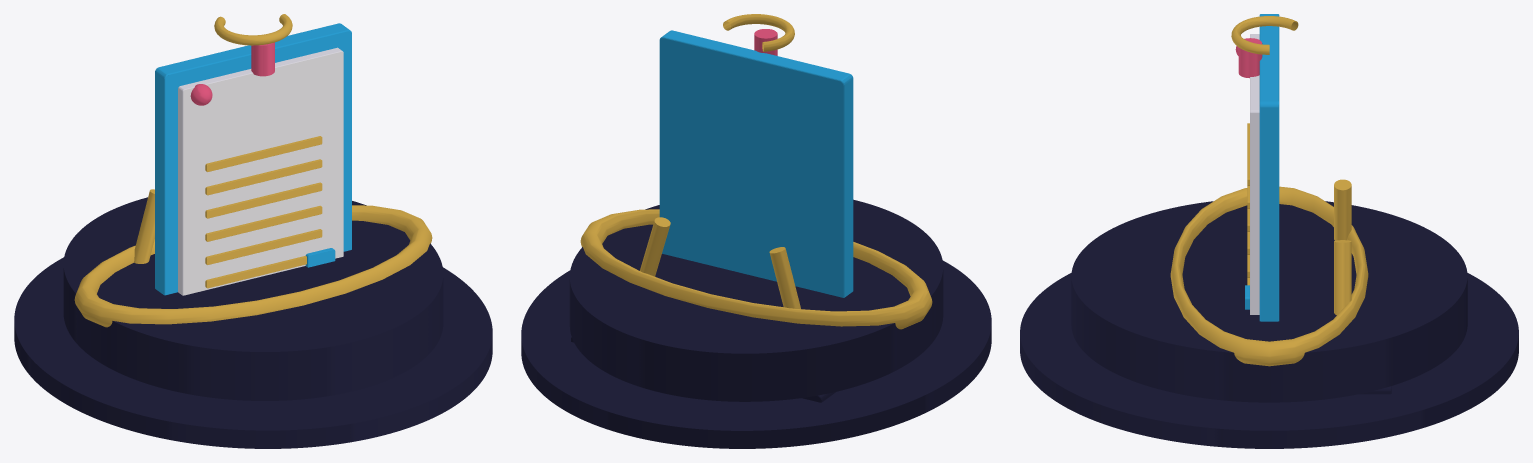
Rendered from 0862_生活中的数学图鉴_高尔顿板.glb.
3 renders of one model, left to right at view 1: azimuth 30°, elevation 25°; view 2: azimuth 150°, elevation 25°; view 3: azimuth 270°, elevation 25°, orthographic.
Parts seen in each view (by area): view 1: card_0862; view 2: card_0862; view 3: card_0862.
Boxes of the visible parts, bbox=[...] form: card_0862: bbox=[14, 14, 492, 448]; card_0862: bbox=[521, 14, 991, 448]; card_0862: bbox=[1020, 14, 1518, 448].
Bounding box in the file's own units: 1.32 × 1 × 1.41.
